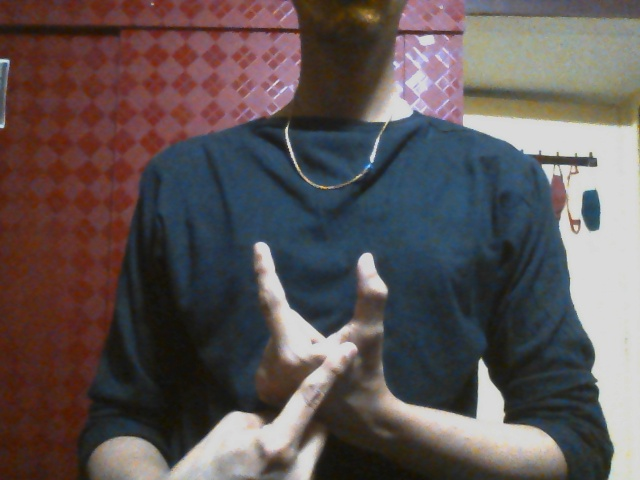Y: (185, 241, 392, 480)
